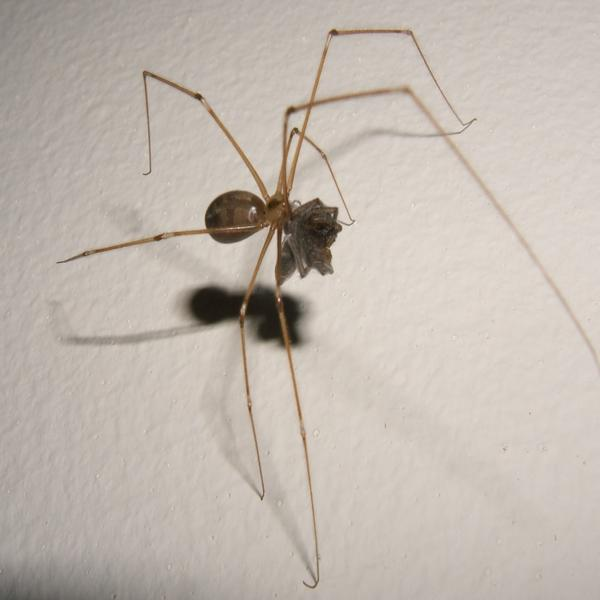Daddy Long Legs Spider: (71, 24, 520, 573)
